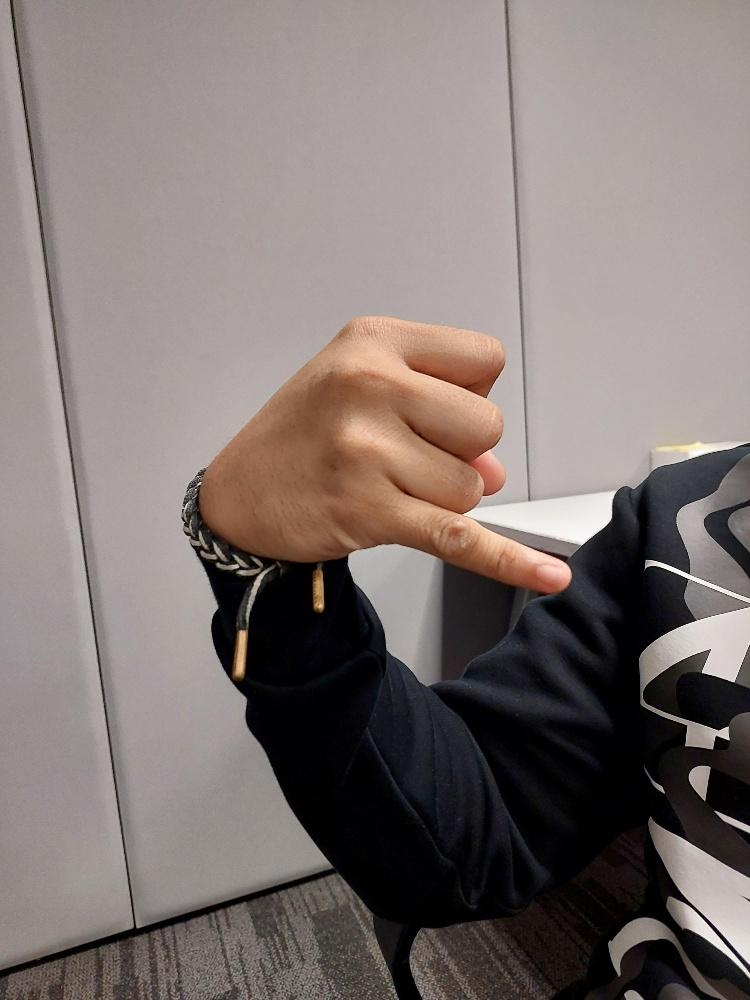j: (201, 311, 573, 594)
